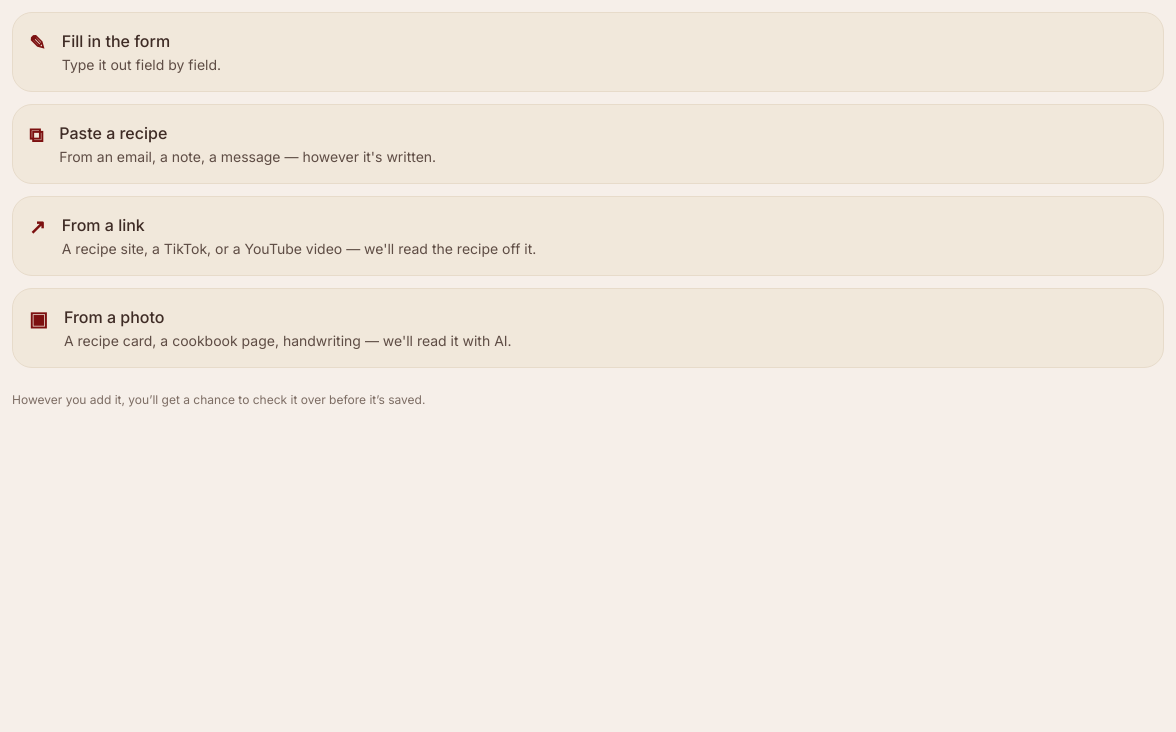
Test case: choosing how to add a recipe › goes straight to an empty form for someone who wants to type
The image size is (1176, 732).
Click the button "✎ Fill in the form Type it out field by field." at (116, 41), box [12,12,1164,92]
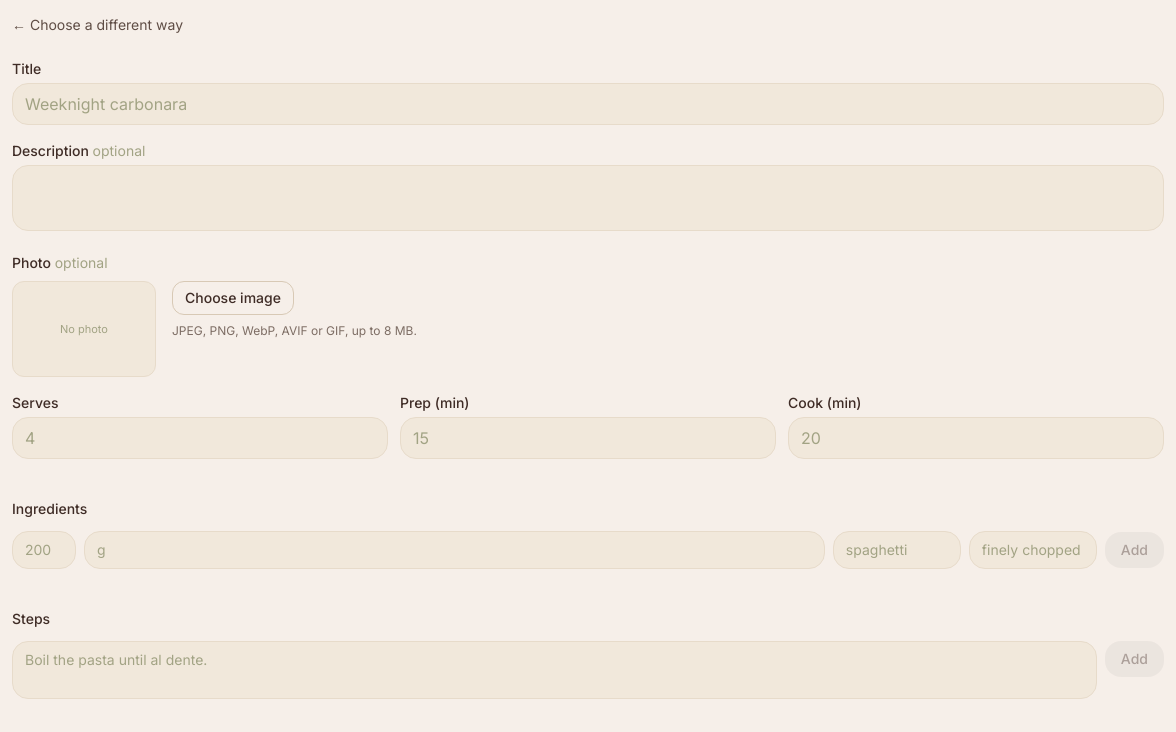
expect the field labelled "Title" is empty: met, box [12,83,1164,125]
expect the button "← Choose a different way" is shown: met, box [12,15,183,35]
